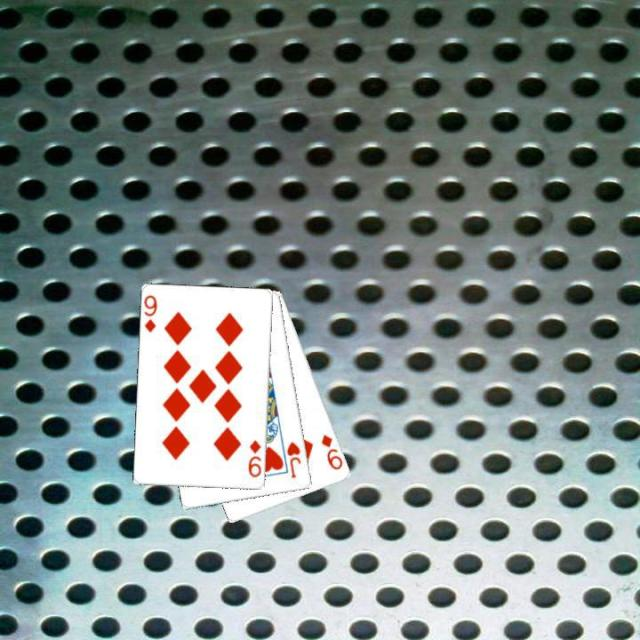9D: (317, 430, 345, 472), (141, 292, 159, 334), (245, 437, 262, 479)
JH: (284, 438, 303, 480)
